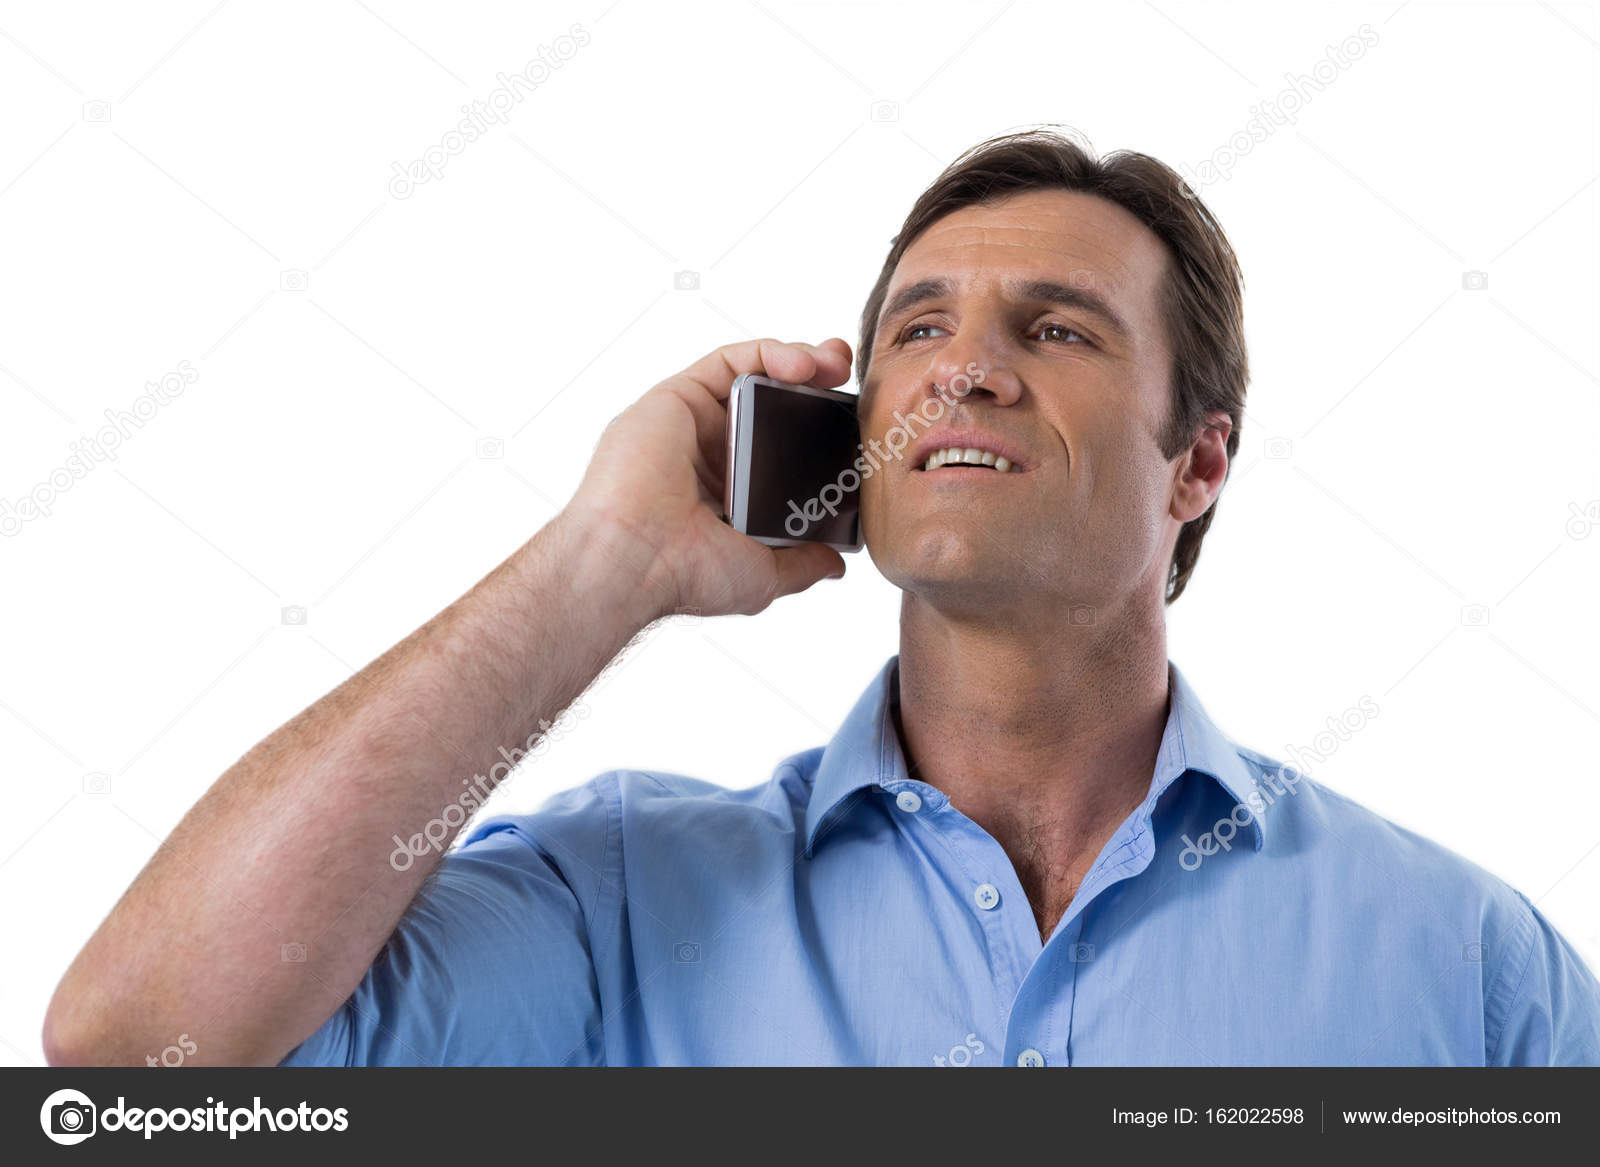phone: (675, 326, 884, 609)
talk: (619, 268, 1154, 656)
